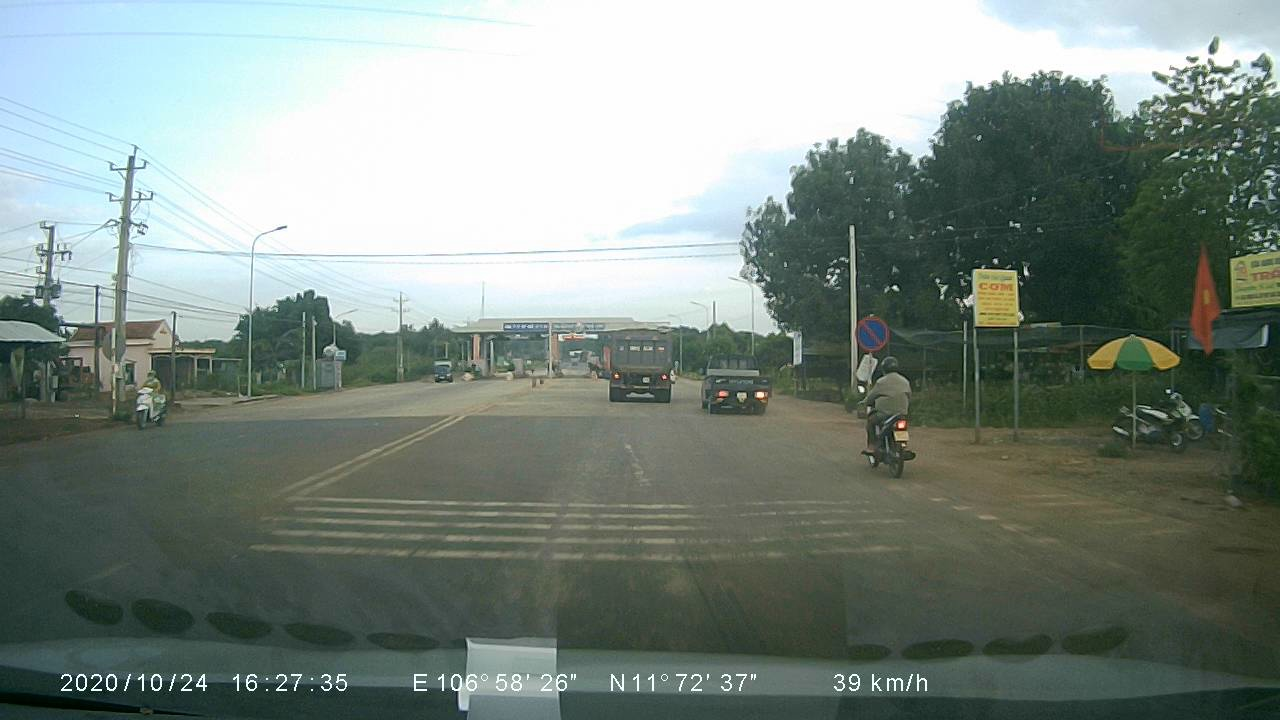Cam do xe: (850, 313, 893, 354)
